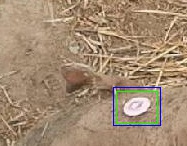text: (116, 91, 157, 123)
